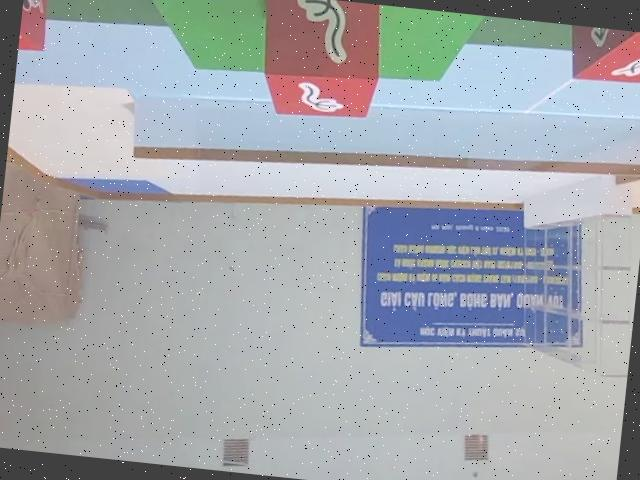R1: (18, 0, 51, 52)
R2 Real: (251, 0, 385, 125), (563, 24, 640, 90)
